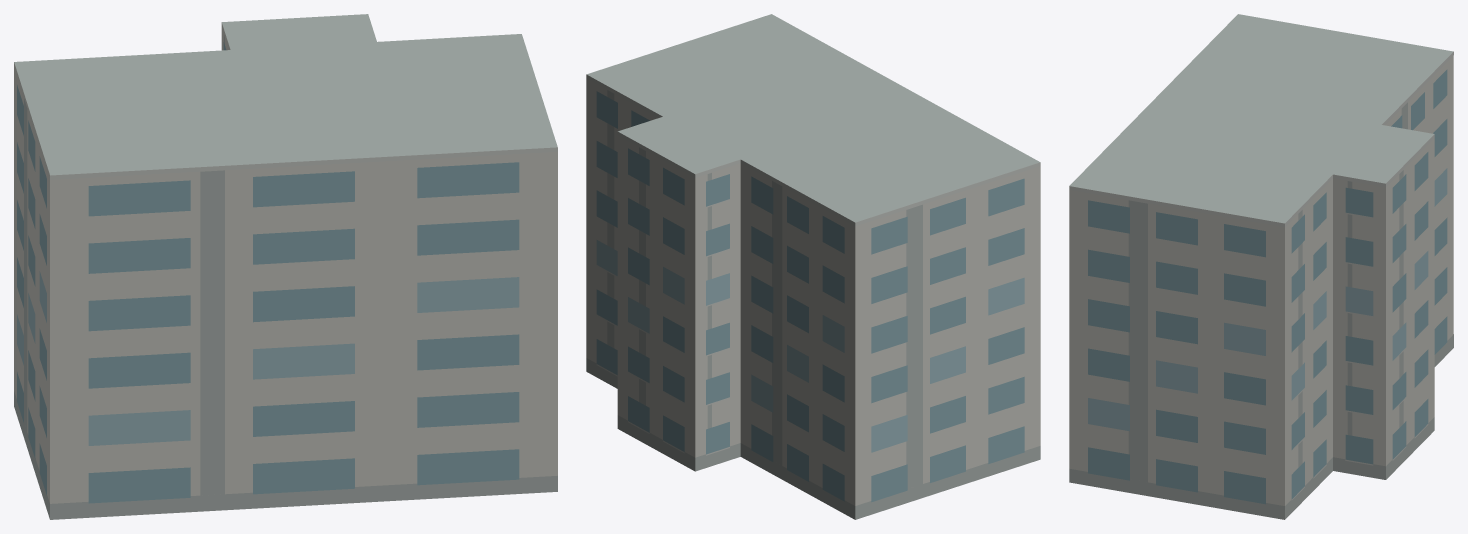
File: survey-upis-32534542.glb
3 views of the same model, side by side, from view 1: azimuth 30°, elevation 25°; view 2: azimuth 150°, elevation 25°; view 3: azimuth 270°, elevation 25° (orthographic). The views are drawn at different scales.
Visible parts, largest first — view 1: survey-upis-32534542.tmp; view 2: survey-upis-32534542.tmp; view 3: survey-upis-32534542.tmp.
Part boxes in pixels (x1=…): survey-upis-32534542.tmp: x1=14, y1=14, x2=557, y2=519; survey-upis-32534542.tmp: x1=586, y1=14, x2=1040, y2=519; survey-upis-32534542.tmp: x1=1069, y1=14, x2=1453, y2=519.
Bounding box in the file's own units: 27.75 × 18.3 × 21.53.
